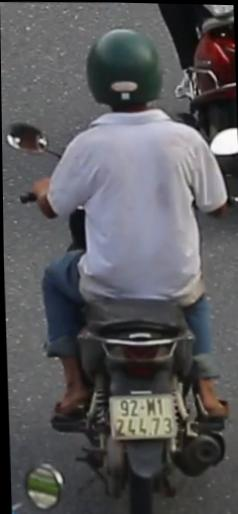LP: (105, 389, 178, 444)
helmet: (83, 20, 170, 133)
